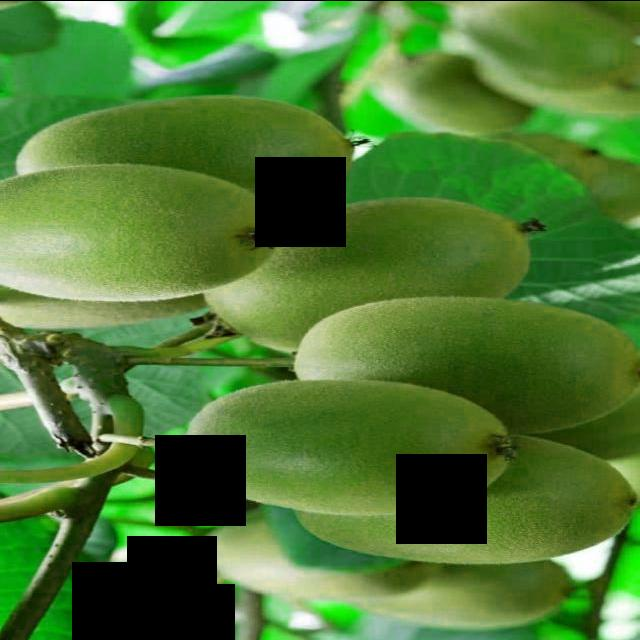kiwi: (202, 196, 543, 353), (294, 296, 640, 440), (281, 431, 640, 568), (185, 379, 522, 519), (15, 95, 357, 220), (1, 164, 287, 305)
